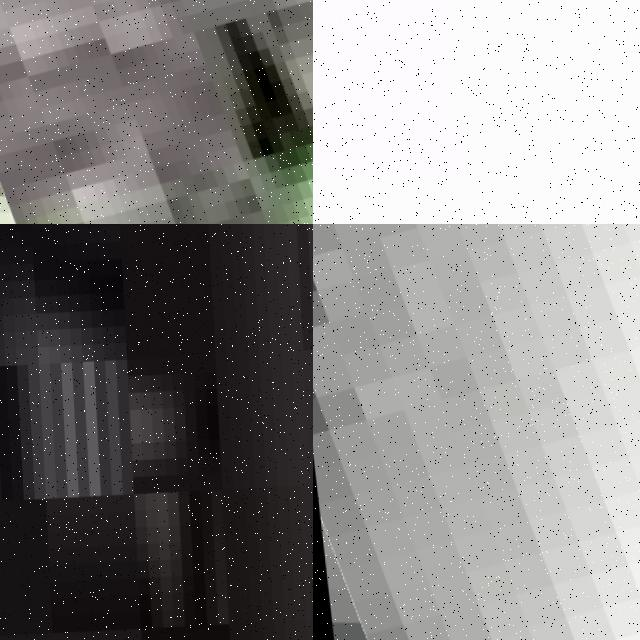drone: (313, 224, 640, 640), (0, 0, 313, 224)
